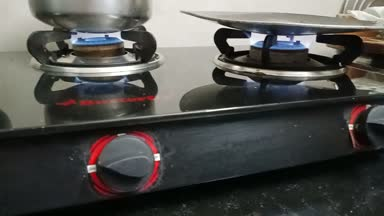flame_gas_on: (53, 24, 159, 195), (228, 29, 331, 83)
